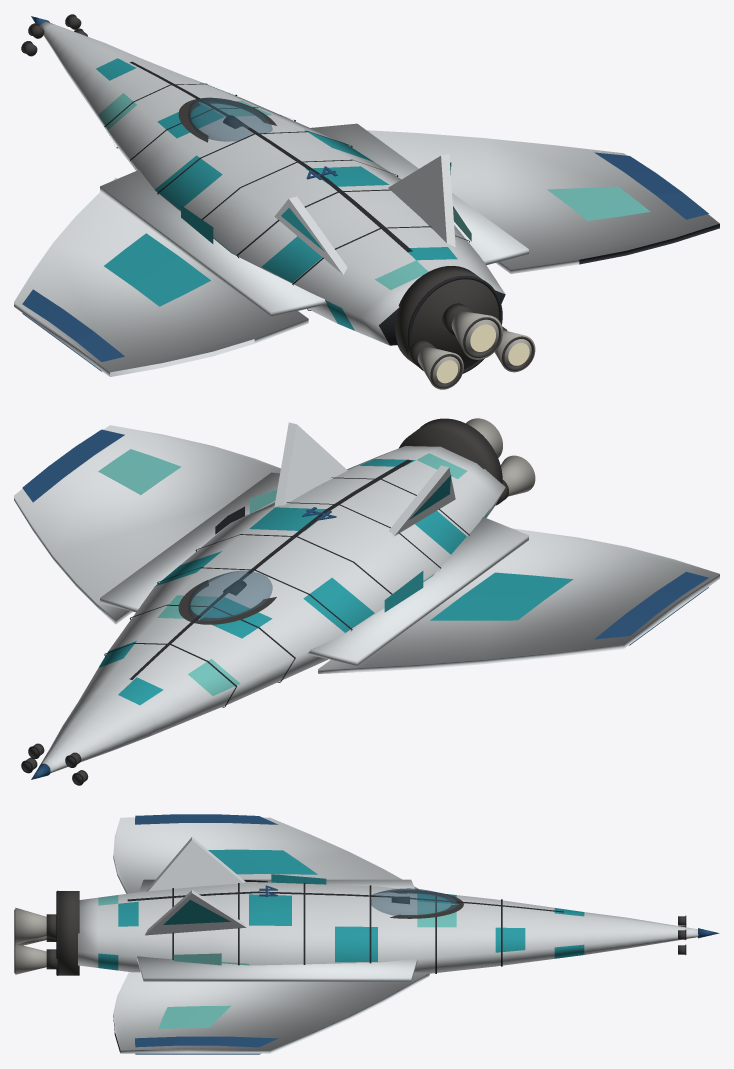
The model's file is Ship_DeltaWing_917855.glb.
3 renders of one model, top to bottom at view 1: azimuth 30°, elevation 25°; view 2: azimuth 150°, elevation 25°; view 3: azimuth 270°, elevation 25°, orthographic. The views are drawn at different scales.
Parts seen in each view (by area): view 1: Fuselage_MainWedgeBody, Wing_Left_DeltaAerofoil, Wing_Right_DeltaAerofoil, WingRoot_Left_BlendedShoulder, EngineBlock_AftIntegratedHousing, WingRoot_Right_BlendedShoulder, PaintSquadronBlock_Left_LargePrimaryPanel, TailFin_Right_CantedStabilizer, CanopyGlass_LowInsetDome, Nose_ForwardNeedle, PaintSquadronBlock_Right_SmallSecondaryPanel, WingTipTrim_Left_HardCutPanel_Top (+9 smaller); view 2: Fuselage_MainWedgeBody, Wing_Left_DeltaAerofoil, Wing_Right_DeltaAerofoil, WingRoot_Left_BlendedShoulder, Nose_ForwardNeedle, WingRoot_Right_BlendedShoulder, PaintSquadronBlock_Left_LargePrimaryPanel, TailFin_Right_CantedStabilizer, CanopyGlass_LowInsetDome, EngineBlock_AftIntegratedHousing, WingTipTrim_Left_HardCutPanel_Top, PaintSquadronBlock_Right_SmallSecondaryPanel (+7 smaller); view 3: Fuselage_MainWedgeBody, Wing_Right_DeltaAerofoil, Wing_Left_DeltaAerofoil, WingRoot_Right_BlendedShoulder, Nose_ForwardNeedle, TailFin_Left_CantedStabilizer, PaintSquadronBlock_Left_LargePrimaryPanel, CanopyGlass_LowInsetDome, EngineBlock_AftIntegratedHousing, TailFin_Right_CantedStabilizer, WingTipTrim_Right_HardCutPanel_Top, PaintSquadronBlock_Right_SmallSecondaryPanel (+9 smaller).
Boxes of the visible parts, box(x1,y1,x2,y2) form: Fuselage_MainWedgeBody: box(78, 58, 505, 345); Wing_Left_DeltaAerofoil: box(14, 177, 308, 376); Wing_Right_DeltaAerofoil: box(367, 130, 719, 273); WingRoot_Left_BlendedShoulder: box(100, 169, 326, 316); EngineBlock_AftIntegratedHousing: box(395, 266, 499, 369); WingRoot_Right_BlendedShoulder: box(310, 123, 528, 265); PaintSquadronBlock_Left_LargePrimaryPanel: box(104, 233, 210, 306); TailFin_Right_CantedStabilizer: box(388, 153, 455, 247); CanopyGlass_LowInsetDome: box(188, 97, 272, 141); Nose_ForwardNeedle: box(40, 22, 139, 98); PaintSquadronBlock_Right_SmallSecondaryPanel: box(547, 186, 650, 220); WingTipTrim_Left_HardCutPanel_Top: box(22, 289, 124, 361); Fuselage_MainWedgeBody: box(78, 446, 505, 735); Wing_Left_DeltaAerofoil: box(318, 528, 719, 673); Wing_Right_DeltaAerofoil: box(14, 425, 280, 624); WingRoot_Left_BlendedShoulder: box(307, 517, 528, 665); Nose_ForwardNeedle: box(39, 694, 157, 773); WingRoot_Right_BlendedShoulder: box(100, 472, 279, 612); PaintSquadronBlock_Left_LargePrimaryPanel: box(430, 572, 573, 620); TailFin_Right_CantedStabilizer: box(274, 422, 347, 507); CanopyGlass_LowInsetDome: box(188, 570, 272, 620); EngineBlock_AftIntegratedHousing: box(399, 419, 501, 483); WingTipTrim_Left_HardCutPanel_Top: box(594, 571, 708, 639); PaintSquadronBlock_Right_SmallSecondaryPanel: box(98, 449, 181, 494); Fuselage_MainWedgeBody: box(78, 882, 584, 973); Wing_Right_DeltaAerofoil: box(113, 972, 429, 1053); Wing_Left_DeltaAerofoil: box(113, 817, 420, 893); WingRoot_Right_BlendedShoulder: box(137, 956, 417, 981); Nose_ForwardNeedle: box(584, 912, 698, 954); TailFin_Left_CantedStabilizer: box(146, 837, 245, 891); PaintSquadronBlock_Left_LargePrimaryPanel: box(208, 849, 317, 874); CanopyGlass_LowInsetDome: box(371, 888, 457, 916); EngineBlock_AftIntegratedHousing: box(58, 891, 79, 975); TailFin_Right_CantedStabilizer: box(145, 890, 246, 935); WingTipTrim_Right_HardCutPanel_Top: box(135, 1036, 278, 1047); PaintSquadronBlock_Right_SmallSecondaryPanel: box(158, 1005, 230, 1028).
Bounding box in the file's own units: 6.01 × 1.32 × 7.72.
